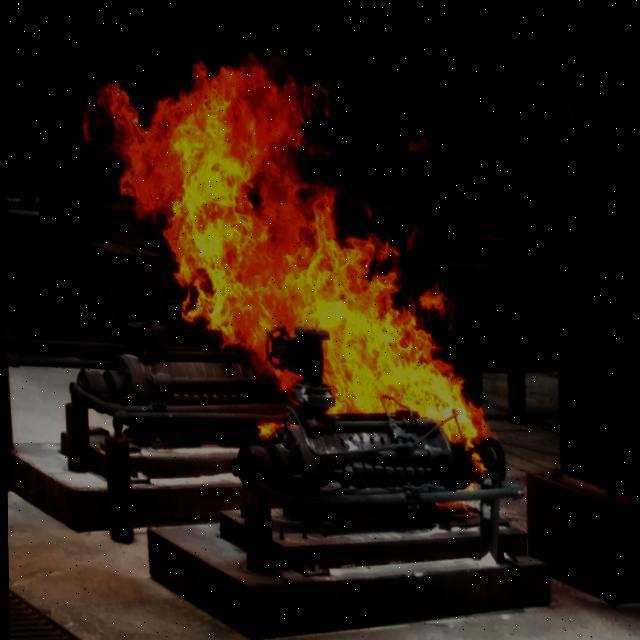Fire: (96, 23, 504, 453)
